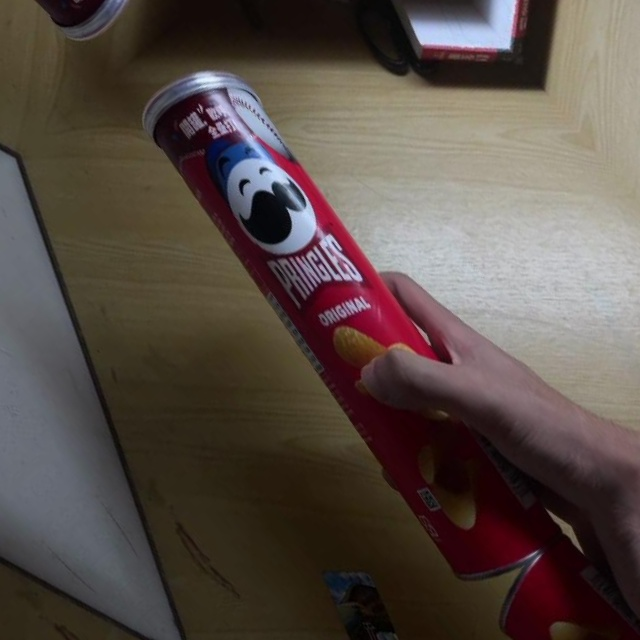Pringles: (94, 45, 598, 604)
